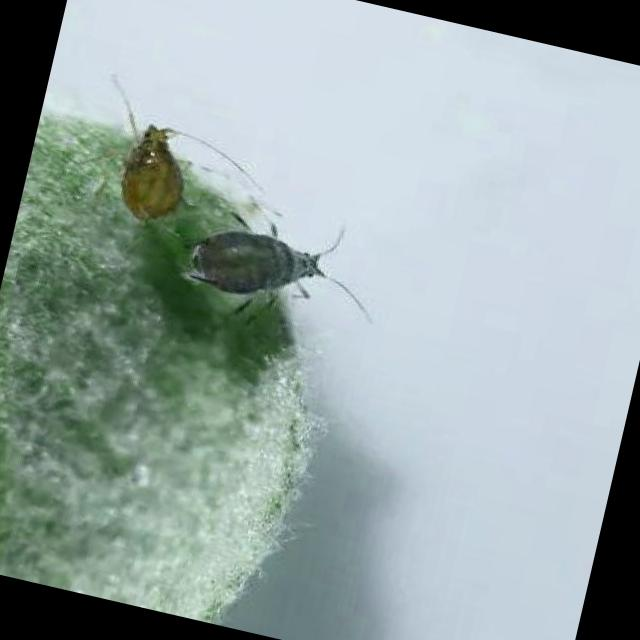aphid: (182, 192, 356, 327), (102, 110, 204, 233)
